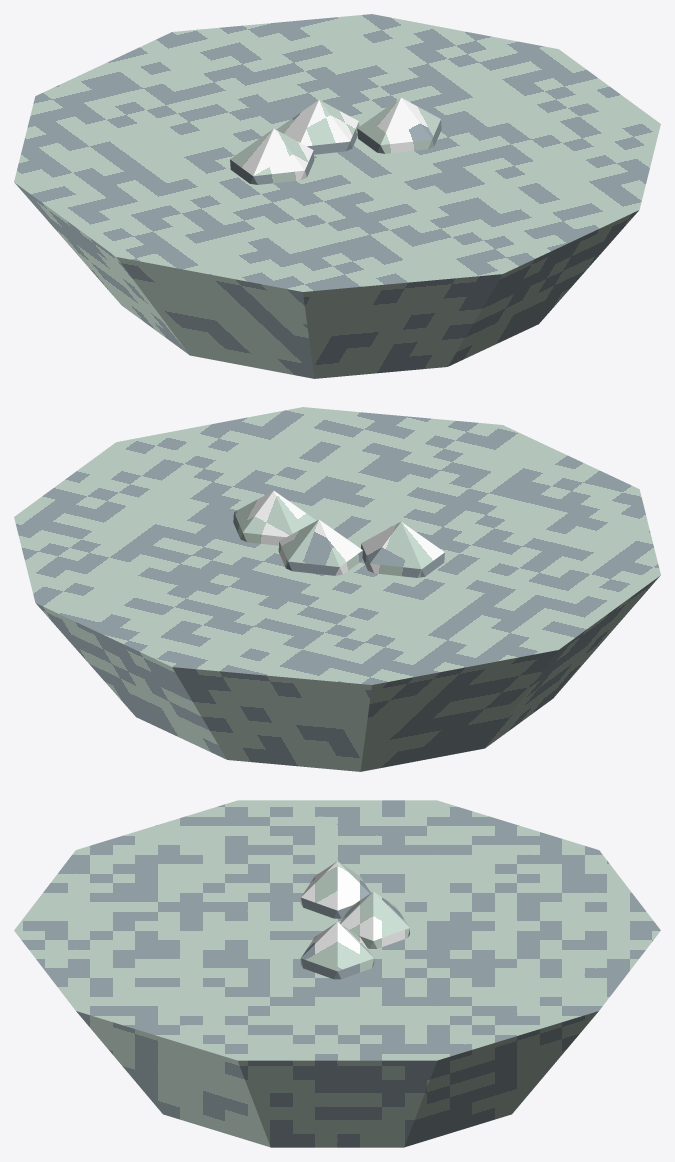
Rendered from a85_ninho_gigante_de_ramos.glb.
3 renders of one model, top to bottom at view 1: azimuth 30°, elevation 25°; view 2: azimuth 150°, elevation 25°; view 3: azimuth 270°, elevation 25°, orthographic. The views are drawn at different scales.
Parts seen in each view (by area): view 1: a85_ninho_gigante_de_ramos; view 2: a85_ninho_gigante_de_ramos; view 3: a85_ninho_gigante_de_ramos.
Part boxes in pixels (left/top/right/bottom): a85_ninho_gigante_de_ramos: left=14, top=14, right=660, bottom=378; a85_ninho_gigante_de_ramos: left=14, top=407, right=660, bottom=771; a85_ninho_gigante_de_ramos: left=14, top=800, right=660, bottom=1147.
Bounding box in the file's own units: 1.71 × 0.52 × 1.8.
2 materials, 2 textured.
